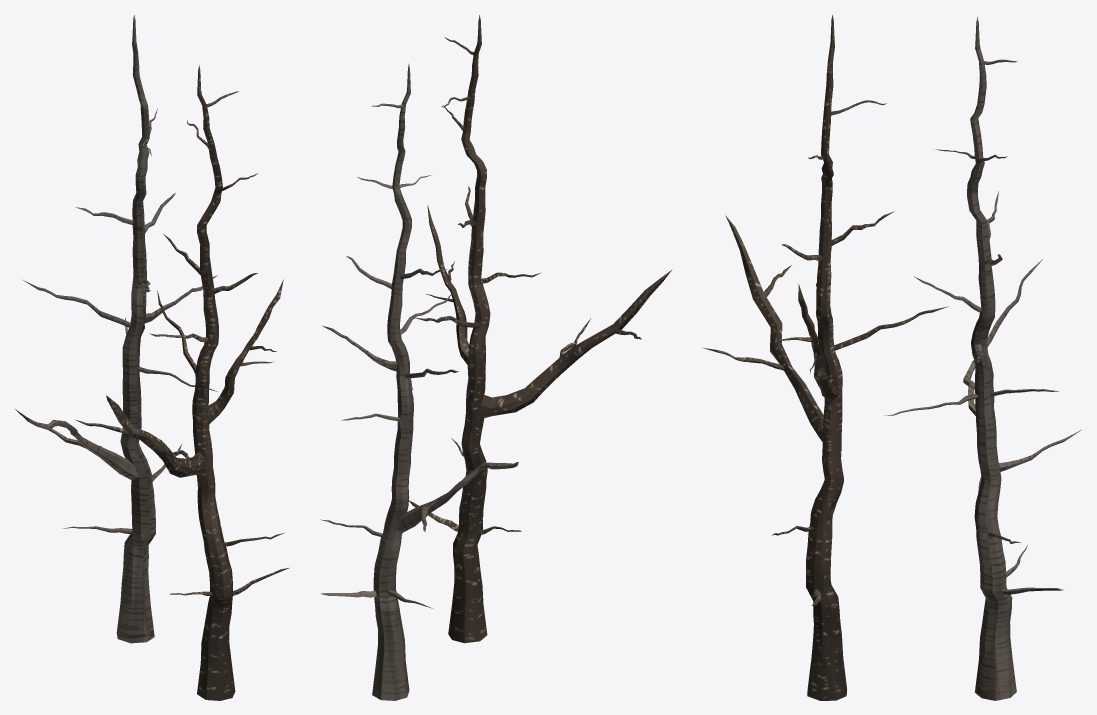
The model's file is Trees.fbx.
The picture shows the model from 3 angles, left to right: view 1: azimuth 30°, elevation 25°; view 2: azimuth 150°, elevation 25°; view 3: azimuth 270°, elevation 25°; orthographic projection. The views are drawn at different scales.
Visible parts, largest first — view 1: Tree2, Tree1; view 2: Tree2, Tree1; view 3: Tree2, Tree1.
Part boxes in pixels (left/top/right/bottom): Tree2: left=75, top=65, right=289, bottom=700; Tree1: left=15, top=15, right=217, bottom=643; Tree2: left=409, top=15, right=672, bottom=643; Tree1: left=320, top=63, right=518, bottom=700; Tree2: left=703, top=15, right=948, bottom=700; Tree1: left=885, top=16, right=1081, bottom=700.
Bounding box in the file's own units: 85.53 × 220 × 113.
